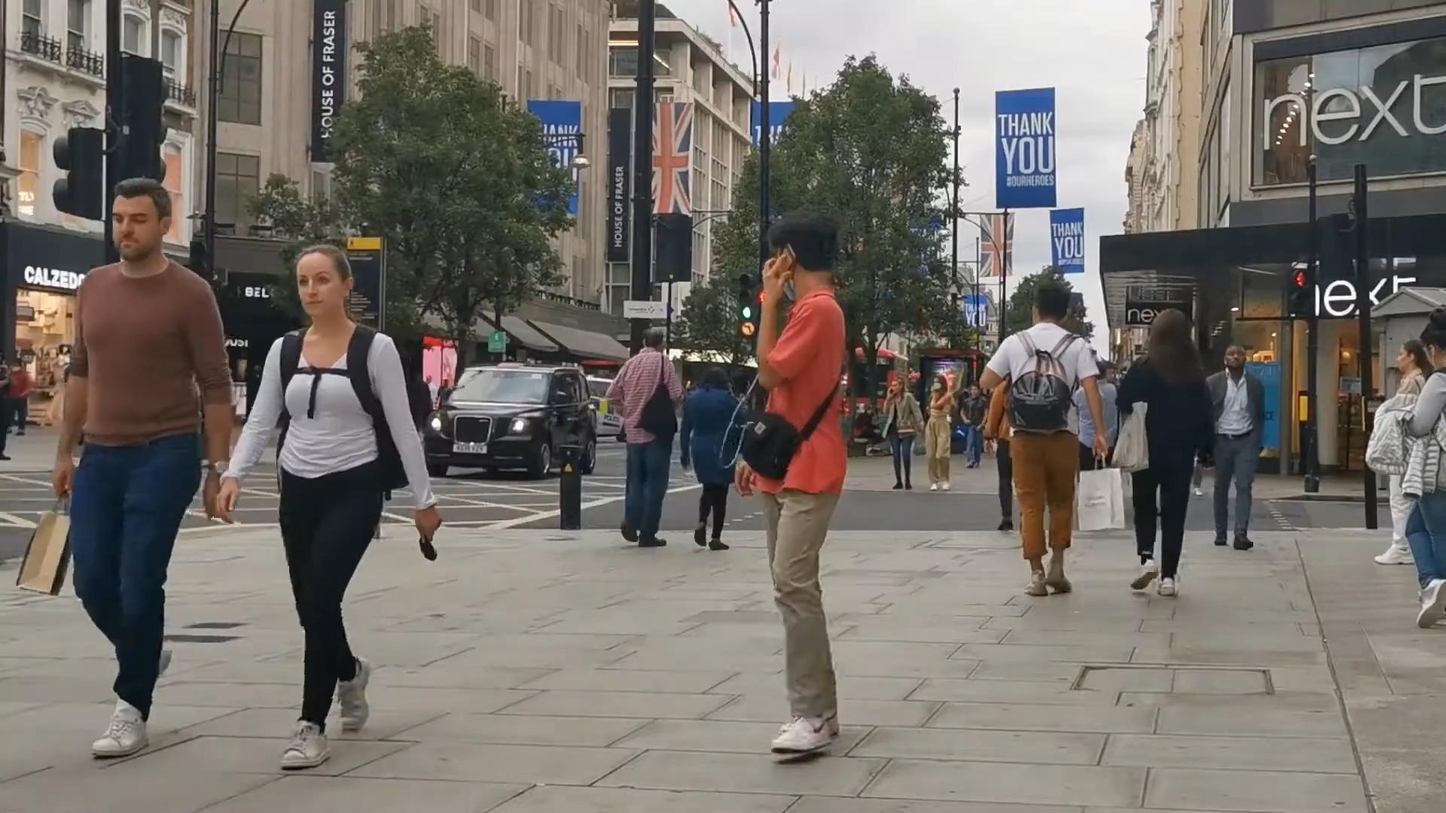no-helmet: (767, 206, 842, 302), (113, 177, 172, 261), (295, 243, 354, 315), (1147, 308, 1197, 355), (1032, 283, 1071, 326), (1420, 308, 1446, 370), (1397, 340, 1433, 374), (699, 367, 729, 392), (1223, 345, 1248, 371), (641, 328, 663, 351), (891, 375, 908, 394), (933, 373, 948, 393)
